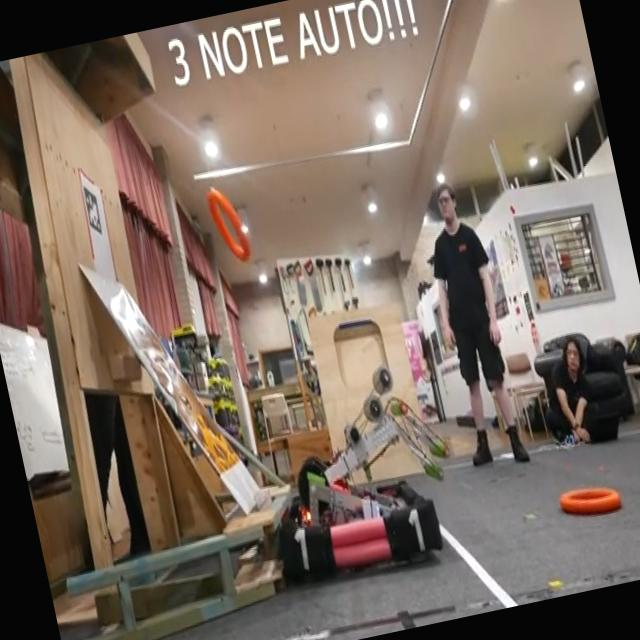note: (552, 472, 629, 528), (207, 191, 249, 260)
